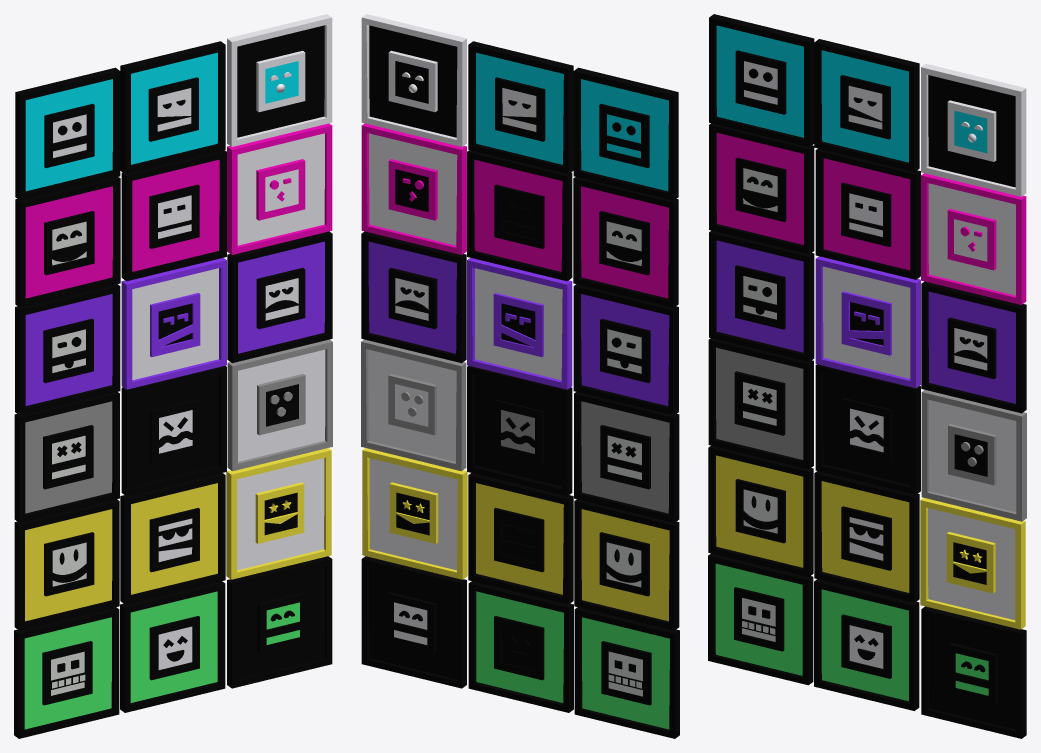
Rendered from Robo Faces FBX 1.fbx.
3 renders of one model, left to right at view 1: azimuth 30°, elevation 25°; view 2: azimuth 150°, elevation 25°; view 3: azimuth 330°, elevation 25°, orthographic.
Parts seen in each view (by area): view 1: B1 Teal, B2 Teal, B3 Teal, B3 Green, B2 Purple, B2 Green, B3 Yellow, B3 Purple, B1 Green, B2 Yellow, B3 Grey, B3 Pink (+6 smaller); view 2: B1 Teal, B2 Teal, B3 Teal, B3 Green, B2 Purple, B2 Green, B3 Yellow, B3 Purple, B1 Green, B2 Yellow, B3 Grey, B3 Pink (+6 smaller); view 3: B1 Teal, B3 Teal, B2 Teal, B3 Green, B2 Purple, B2 Green, B3 Yellow, B3 Purple, B3 Grey, B1 Green, B3 Pink, B2 Yellow (+6 smaller).
Boxes of the visible parts, left/top/right/bottom form: B1 Teal: left=15, top=67, right=120, bottom=200; B2 Teal: left=120, top=41, right=225, bottom=174; B3 Teal: left=227, top=14, right=332, bottom=146; B3 Green: left=227, top=556, right=332, bottom=688; B2 Purple: left=121, top=257, right=226, bottom=389; B2 Green: left=120, top=581, right=225, bottom=712; B3 Yellow: left=226, top=448, right=331, bottom=579; B3 Purple: left=227, top=231, right=332, bottom=363; B1 Green: left=14, top=607, right=119, bottom=738; B2 Yellow: left=120, top=473, right=225, bottom=604; B3 Grey: left=227, top=339, right=332, bottom=471; B3 Pink: left=227, top=123, right=332, bottom=254; B1 Teal: left=573, top=67, right=678, bottom=200; B2 Teal: left=468, top=41, right=573, bottom=174; B3 Teal: left=361, top=14, right=466, bottom=146; B3 Green: left=361, top=556, right=466, bottom=688; B2 Purple: left=467, top=257, right=572, bottom=389; B2 Green: left=468, top=581, right=573, bottom=712; B3 Yellow: left=362, top=448, right=467, bottom=579; B3 Purple: left=361, top=231, right=466, bottom=363; B1 Green: left=574, top=607, right=679, bottom=738; B2 Yellow: left=468, top=473, right=573, bottom=604; B3 Grey: left=361, top=339, right=466, bottom=471; B3 Pink: left=361, top=123, right=466, bottom=254; B1 Teal: left=709, top=14, right=814, bottom=146; B3 Teal: left=921, top=64, right=1026, bottom=196; B2 Teal: left=814, top=39, right=919, bottom=171; B3 Green: left=921, top=606, right=1026, bottom=738; B2 Purple: left=815, top=256, right=920, bottom=388; B2 Green: left=814, top=579, right=919, bottom=710; B3 Yellow: left=920, top=498, right=1025, bottom=629; B3 Purple: left=921, top=281, right=1026, bottom=413; B3 Grey: left=921, top=390, right=1026, bottom=521; B1 Green: left=708, top=553, right=813, bottom=685; B3 Pink: left=921, top=173, right=1026, bottom=304; B2 Yellow: left=814, top=471, right=919, bottom=602.
Bounding box in the file's own units: 431 × 848 × 14.72.
